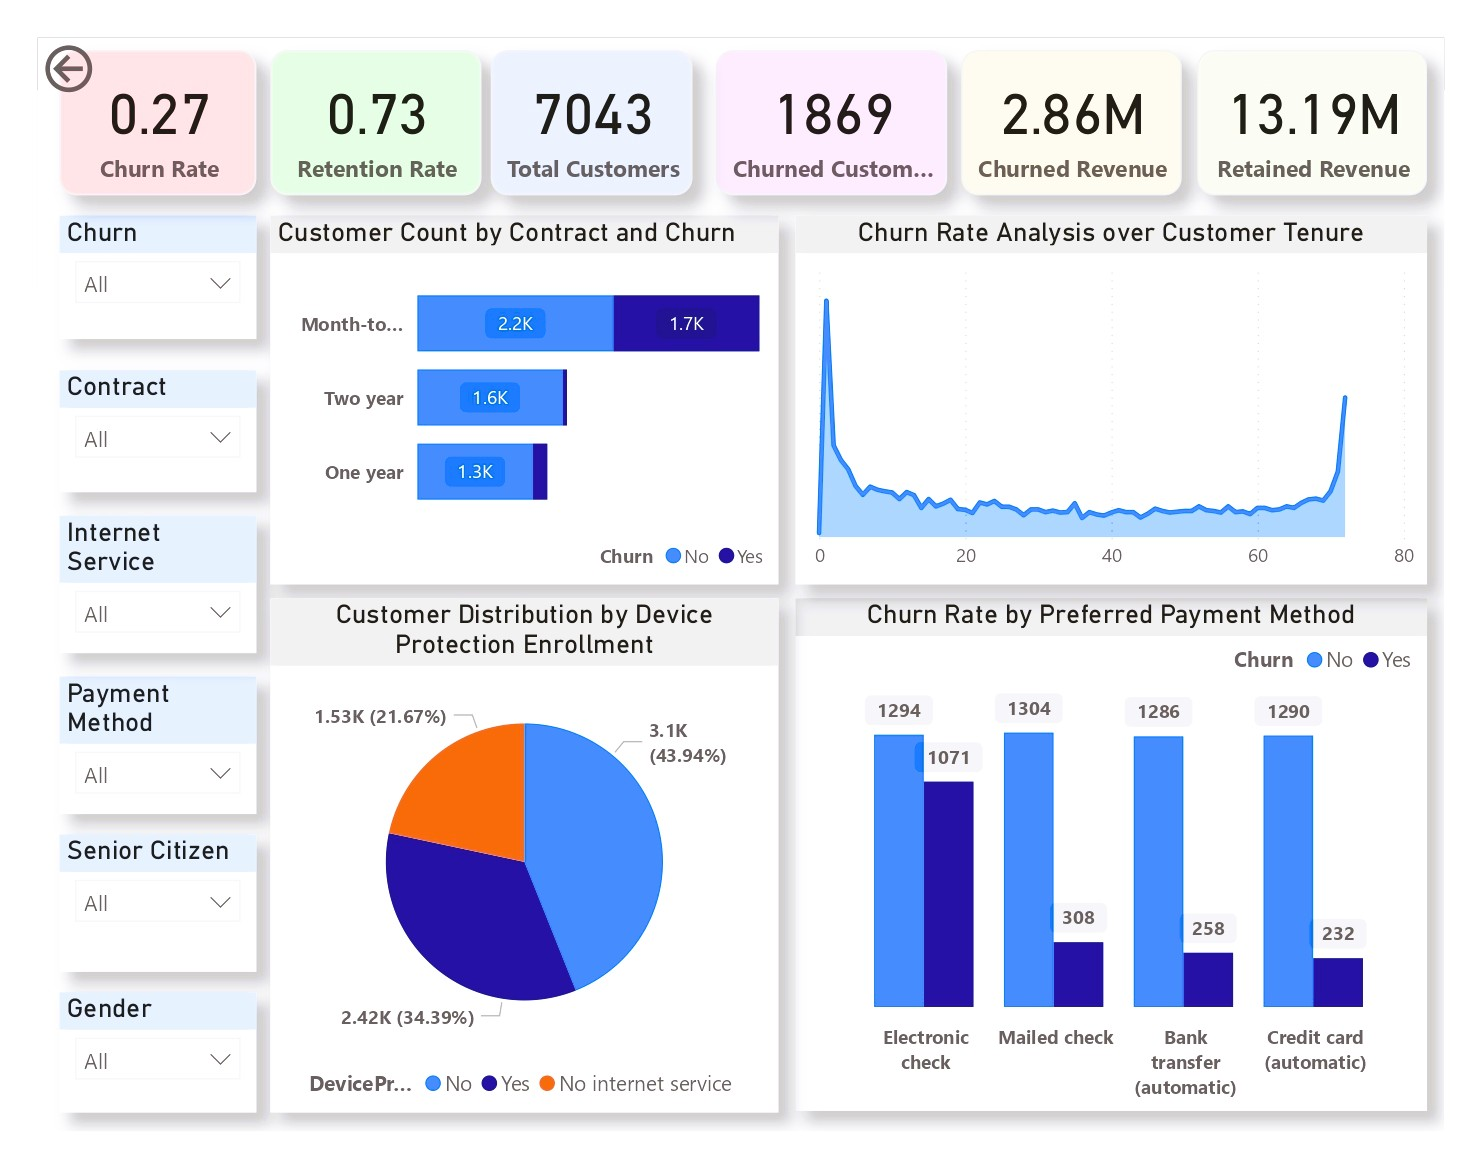

The page's visual inventory and layout, read from the dashboard file:
{"tool":"powerbi","page":{"name":"Detailed Analysis & Insights","canvas":[900,700],"ordinal":2},"visuals":[{"type":"clusteredColumnChart","title":"Churn Rate by Preferred Payment Method ","fields":{"Series":["WA_Fn-UseC_-Telco-Customer-Churn.Churn"],"Category":["WA_Fn-UseC_-Telco-Customer-Churn.PaymentMethod"],"Y":["CountNonNull(WA_Fn-UseC_-Telco-Customer-Churn.customerID)"]},"box":[485.4,359.4,403.3,327.6],"z":0},{"type":"slicer","title":"Churn","fields":{"Values":["WA_Fn-UseC_-Telco-Customer-Churn.Churn"]},"box":[14.2,114,126,78.9],"z":1000},{"type":"slicer","title":"Payment Method","fields":{"Values":["WA_Fn-UseC_-Telco-Customer-Churn.PaymentMethod"]},"box":[14.2,408.7,126,88.8],"z":2000},{"type":"slicer","title":"Contract","fields":{"Values":["WA_Fn-UseC_-Telco-Customer-Churn.Contract"]},"box":[14.2,212.6,126,78.9],"z":3000},{"type":"slicer","title":"Internet Service","fields":{"Values":["WA_Fn-UseC_-Telco-Customer-Churn.InternetService"]},"box":[14.2,305.7,126,88.8],"z":4000},{"type":"slicer","title":"Senior Citizen","fields":{"Values":["WA_Fn-UseC_-Telco-Customer-Churn.SeniorCitizen"]},"box":[14.2,509.6,126,88.8],"z":5000},{"type":"slicer","title":"Gender","fields":{"Values":["WA_Fn-UseC_-Telco-Customer-Churn.gender"]},"box":[14.2,611.5,126,76.7],"z":6000},{"type":"barChart","title":"Customer Count by Contract and Churn ","fields":{"Series":["WA_Fn-UseC_-Telco-Customer-Churn.Churn"],"Category":["WA_Fn-UseC_-Telco-Customer-Churn.Contract"],"Y":["CountNonNull(WA_Fn-UseC_-Telco-Customer-Churn.customerID)"]},"box":[149,114,325.5,235.6],"z":7000},{"type":"card","fields":{"Values":["WA_Fn-UseC_-Telco-Customer-Churn.Churn Rate"]},"box":[14.2,7.7,126,93.1],"z":8000},{"type":"card","fields":{"Values":["WA_Fn-UseC_-Telco-Customer-Churn.Churned Customers"]},"box":[433.9,7.7,147.9,93.1],"z":9000},{"type":"card","fields":{"Values":["WA_Fn-UseC_-Telco-Customer-Churn.Retention Rate"]},"box":[149,7.7,134.8,93.1],"z":10000},{"type":"card","fields":{"Values":["Count(WA_Fn-UseC_-Telco-Customer-Churn.customerID)"]},"box":[290.4,7.7,128.2,93.1],"z":11000},{"type":"card","fields":{"Values":["WA_Fn-UseC_-Telco-Customer-Churn.Churned Revenue"]},"box":[590.6,7.7,141.4,93.1],"z":12000},{"type":"card","fields":{"Values":["WA_Fn-UseC_-Telco-Customer-Churn.Retained Revenue"]},"box":[741.9,7.7,146.8,93.1],"z":13000},{"type":"areaChart","title":"Churn Rate Analysis over Customer Tenure","fields":{"Category":["WA_Fn-UseC_-Telco-Customer-Churn.tenure"],"Y":["CountNonNull(WA_Fn-UseC_-Telco-Customer-Churn.Churn)"]},"box":[485.4,114,403.3,235.6],"z":14000},{"type":"actionButton","box":[0,0,100,40],"z":15000},{"type":"pieChart","title":"Customer Distribution by Device Protection Enrollment","fields":{"Y":["CountNonNull(WA_Fn-UseC_-Telco-Customer-Churn.customerID)"],"Category":["WA_Fn-UseC_-Telco-Customer-Churn.DeviceProtection"]},"box":[149,359.4,325.5,328.7],"z":16000}]}

Visuals, with their boxes on the page's 900x700 design canvas (x1, y1, x2, y2). These are canvas units, not pixel positions in the 1482x1169 screenshot, which may show the page scaled, cropped or inside an application window:
"Churn Rate by Preferred Payment Method " clusteredColumnChart: <bbox>485, 359, 889, 687</bbox>
"Churn" slicer: <bbox>14, 114, 140, 193</bbox>
"Payment Method" slicer: <bbox>14, 409, 140, 498</bbox>
"Contract" slicer: <bbox>14, 213, 140, 292</bbox>
"Internet Service" slicer: <bbox>14, 306, 140, 394</bbox>
"Senior Citizen" slicer: <bbox>14, 510, 140, 598</bbox>
"Gender" slicer: <bbox>14, 612, 140, 688</bbox>
"Customer Count by Contract and Churn " barChart: <bbox>149, 114, 474, 350</bbox>
card - WA_Fn-UseC_-Telco-Customer-Churn.Churn Rate: <bbox>14, 8, 140, 101</bbox>
card - WA_Fn-UseC_-Telco-Customer-Churn.Churned Customers: <bbox>434, 8, 582, 101</bbox>
card - WA_Fn-UseC_-Telco-Customer-Churn.Retention Rate: <bbox>149, 8, 284, 101</bbox>
card - Count(WA_Fn-UseC_-Telco-Customer-Churn.customerID): <bbox>290, 8, 419, 101</bbox>
card - WA_Fn-UseC_-Telco-Customer-Churn.Churned Revenue: <bbox>591, 8, 732, 101</bbox>
card - WA_Fn-UseC_-Telco-Customer-Churn.Retained Revenue: <bbox>742, 8, 889, 101</bbox>
"Churn Rate Analysis over Customer Tenure" areaChart: <bbox>485, 114, 889, 350</bbox>
actionButton: <bbox>0, 0, 100, 40</bbox>
"Customer Distribution by Device Protection Enrollment" pieChart: <bbox>149, 359, 474, 688</bbox>
